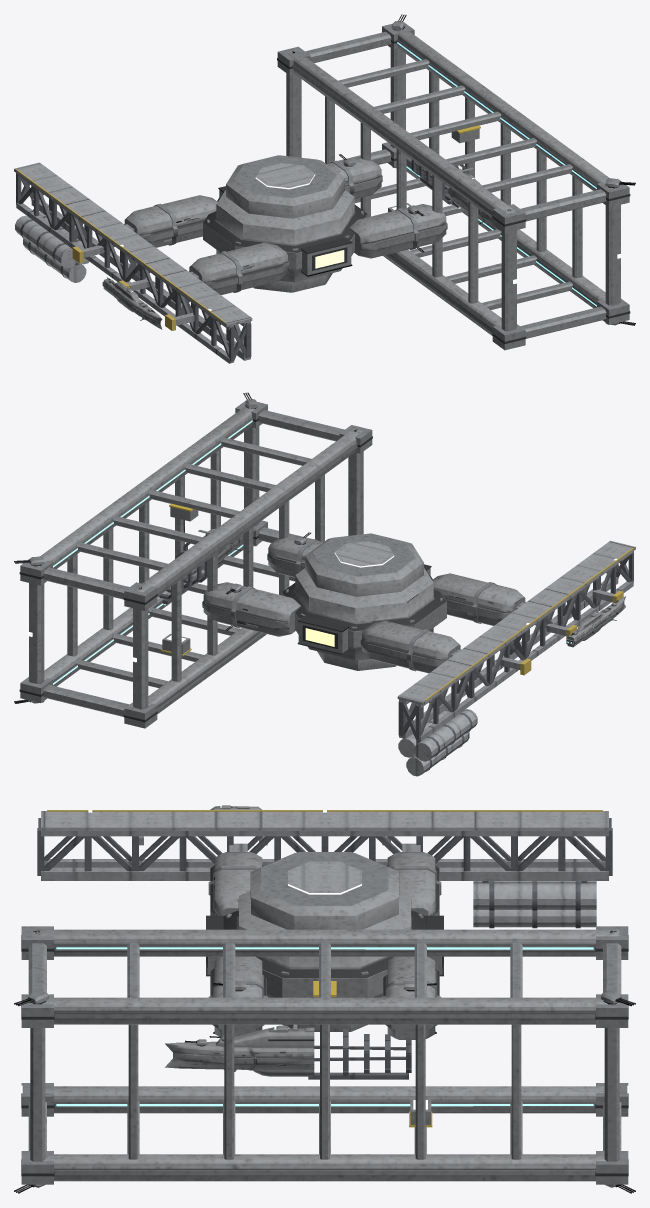
The model's file is Human_Shipyard_T1.fbx.
3 renders of one model, top to bottom at view 1: azimuth 30°, elevation 25°; view 2: azimuth 150°, elevation 25°; view 3: azimuth 270°, elevation 25°, orthographic. The views are drawn at different scales.
Visible parts, largest first — view 1: Superstructure_LOD0, Hull_LOD0, FlightDeck_LOD0; view 2: Superstructure_LOD0, Hull_LOD0, FlightDeck_LOD0; view 3: Superstructure_LOD0, Hull_LOD0, FlightDeck_LOD0.
Part boxes in pixels (x1=…): Superstructure_LOD0: x1=226, y1=22, x2=630, y2=350; Hull_LOD0: x1=14, y1=42, x2=621, y2=363; FlightDeck_LOD0: x1=218, y1=186, x2=352, y2=276; Superstructure_LOD0: x1=19, y1=400, x2=423, y2=728; Hull_LOD0: x1=28, y1=420, x2=635, y2=776; FlightDeck_LOD0: x1=297, y1=564, x2=431, y2=654; Superstructure_LOD0: x1=21, y1=852, x2=628, y2=1184; Hull_LOD0: x1=21, y1=805, x2=628, y2=1127; FlightDeck_LOD0: x1=206, y1=915, x2=443, y2=976.
Size of what is drawn, in the model's own units: 10850 by 3416 by 10072.
